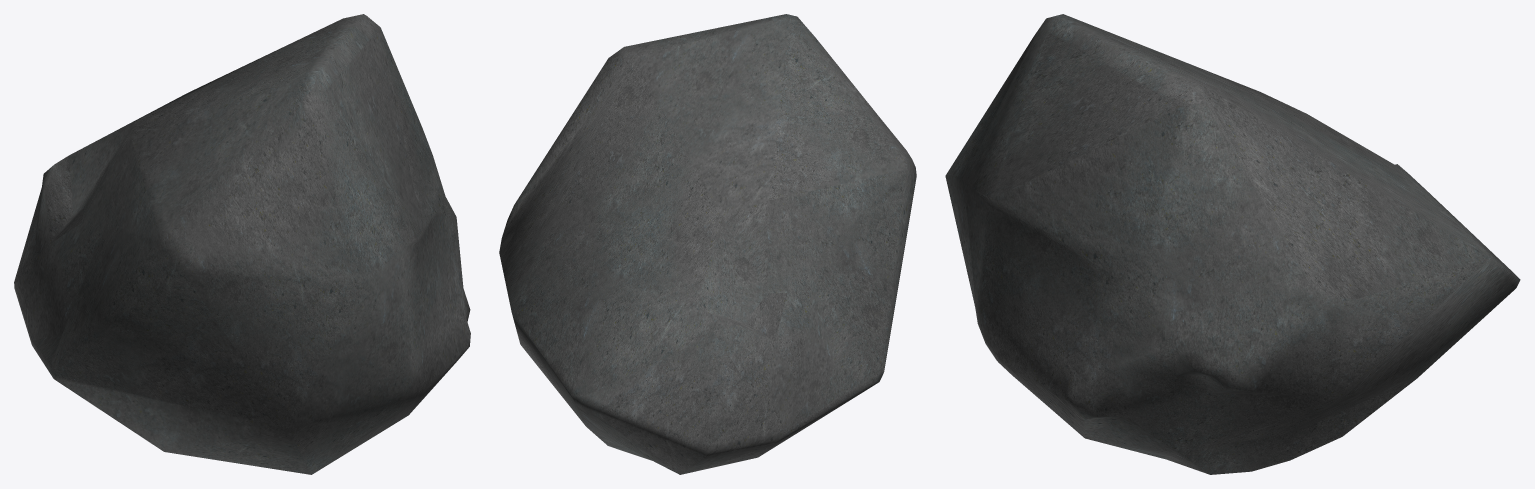
File: rock.006.obj
3 renders of one model, left to right at view 1: azimuth 30°, elevation 25°; view 2: azimuth 150°, elevation 25°; view 3: azimuth 270°, elevation 25°, orthographic. The views are drawn at different scales.
Bounding box in the file's own units: 1.82 × 1.89 × 2.3.
1 material, 1 textured.
